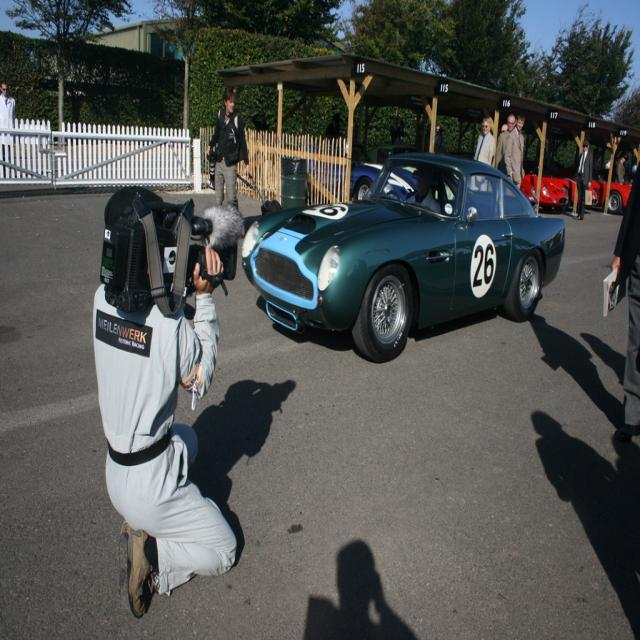car: (239, 140, 560, 360)
